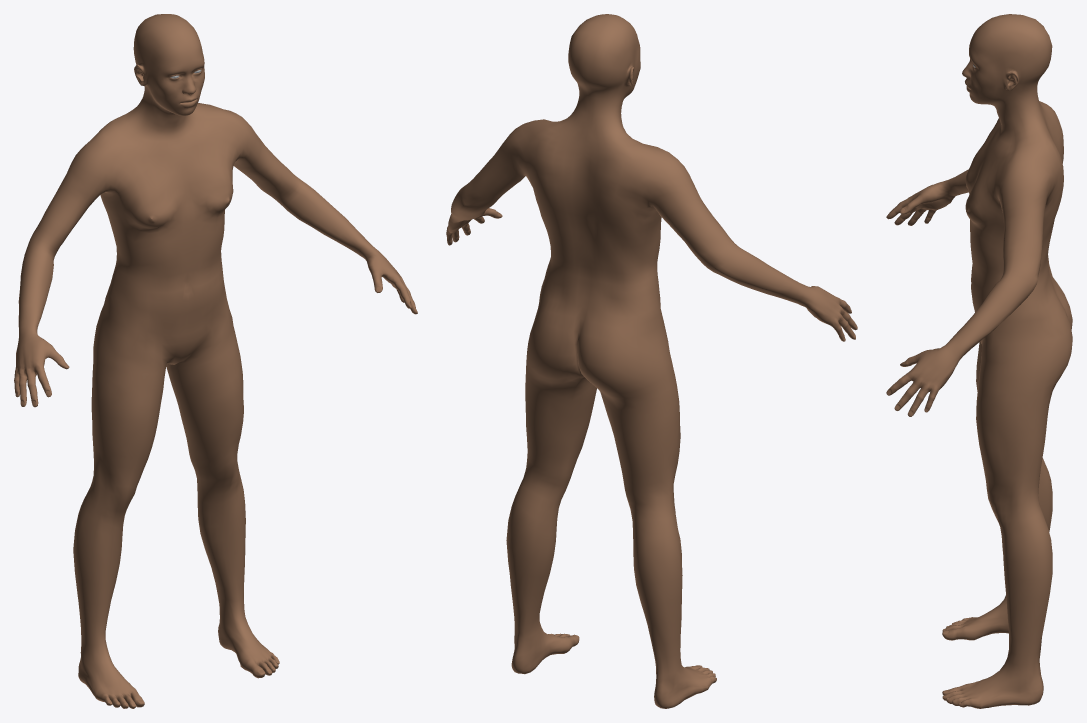
3 views of the same model, side by side, from view 1: azimuth 30°, elevation 25°; view 2: azimuth 150°, elevation 25°; view 3: azimuth 270°, elevation 25° (orthographic).
Parts seen in each view (by area): view 1: base.obj; view 2: base.obj; view 3: base.obj.
Boxes of the visible parts, bbox=[...] form: base.obj: bbox=[14, 14, 417, 708]; base.obj: bbox=[446, 14, 857, 708]; base.obj: bbox=[886, 14, 1072, 708].
Bounding box in the file's own units: 10.52 × 16.59 × 4.3.
